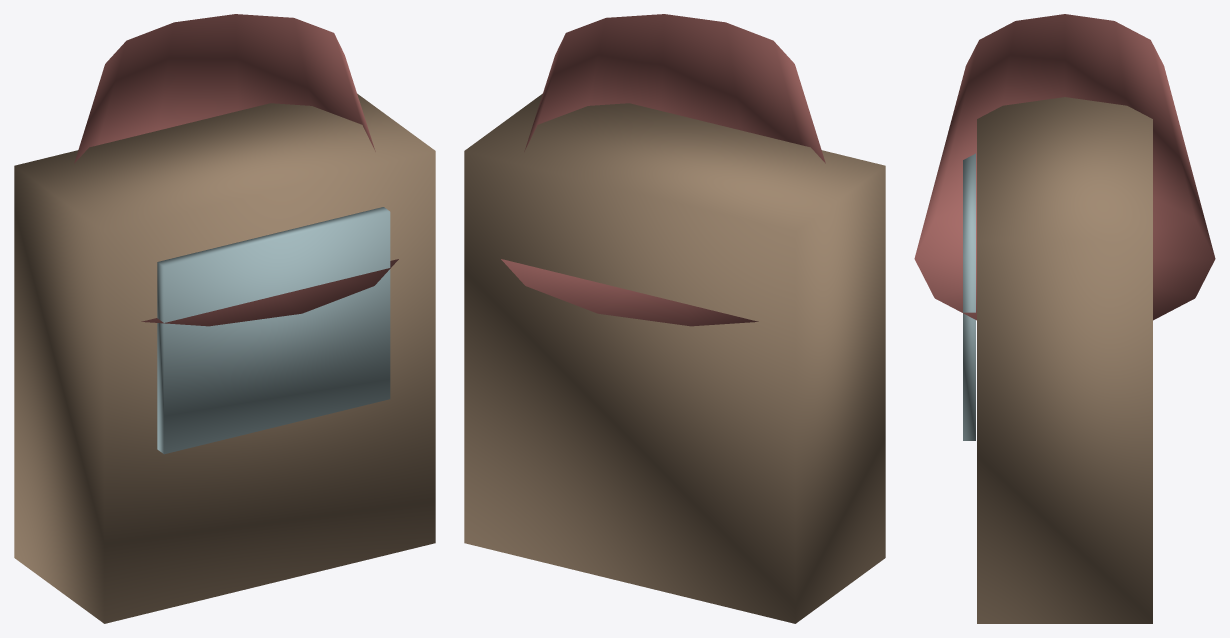
The model's file is jukebox__wide.glb.
3 views of the same model, side by side, from view 1: azimuth 30°, elevation 25°; view 2: azimuth 150°, elevation 25°; view 3: azimuth 270°, elevation 25° (orthographic). The views are drawn at different scales.
Visible parts, largest first — view 1: world; view 2: world; view 3: world.
Boxes of the visible parts, x1=… form: world: x1=14, y1=14, x2=435, y2=623; world: x1=464, y1=14, x2=885, y2=623; world: x1=914, y1=14, x2=1215, y2=623.
Bounding box in the file's own units: 1.02 × 1.44 × 0.82.
